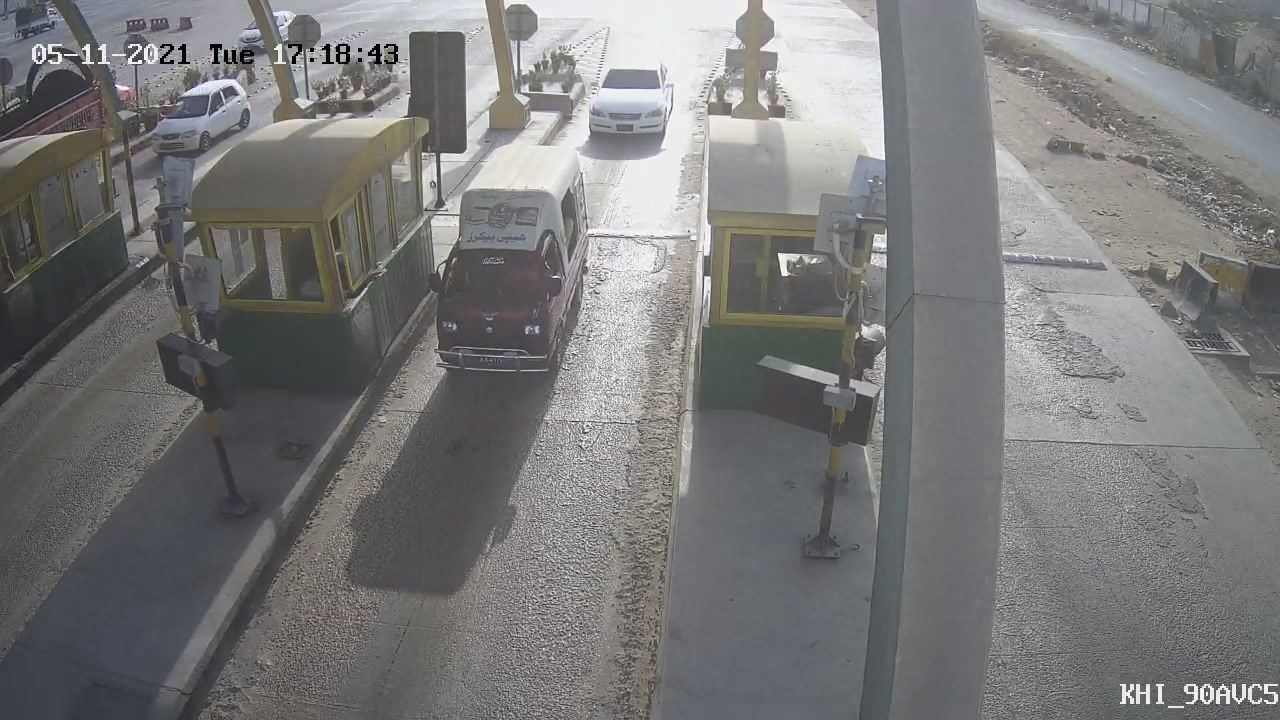F1: (428, 137, 609, 392), (574, 49, 689, 159)
